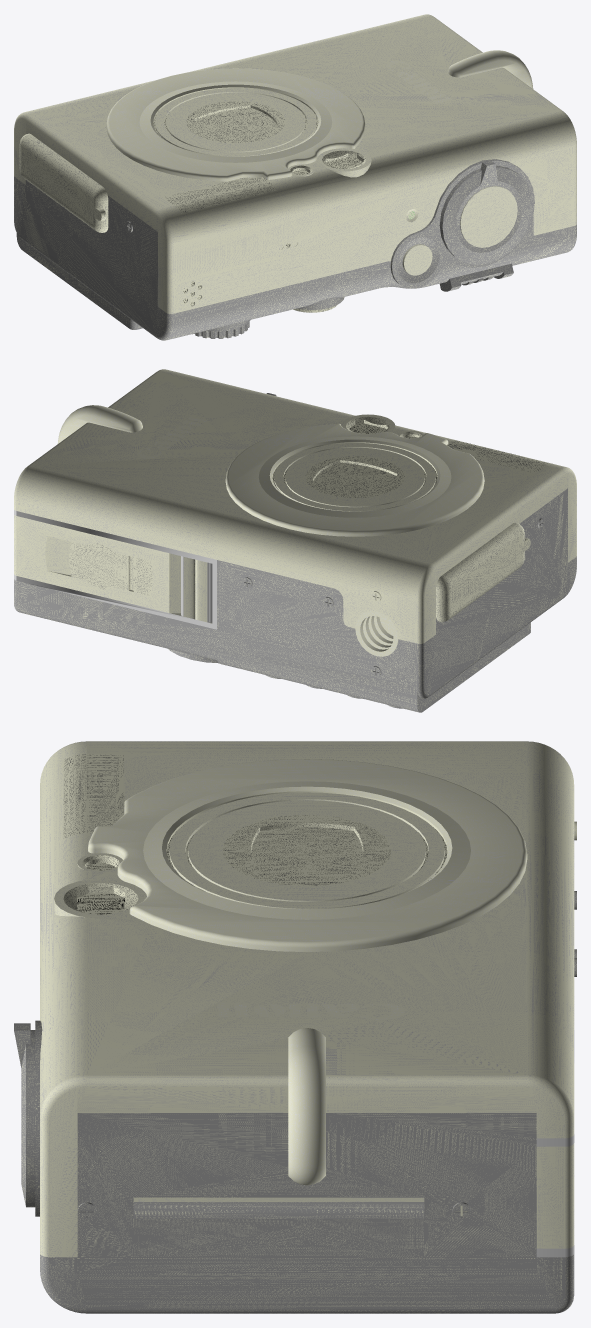
Rendered from model_scale.obj.
3 renders of one model, top to bottom at view 1: azimuth 30°, elevation 25°; view 2: azimuth 150°, elevation 25°; view 3: azimuth 270°, elevation 25°, orthographic. The views are drawn at different scales.
Parts seen in each view (by area): view 1: mesh1_mesh1-geometry; view 2: mesh1_mesh1-geometry; view 3: mesh1_mesh1-geometry.
Part boxes in pixels (x1,y1,x2,y2): mesh1_mesh1-geometry: (14,14,576,340); mesh1_mesh1-geometry: (14,369,576,712); mesh1_mesh1-geometry: (14,741,576,1313).
Size of the model in its own units: 0.1292 by 0.0441 by 0.0821.
